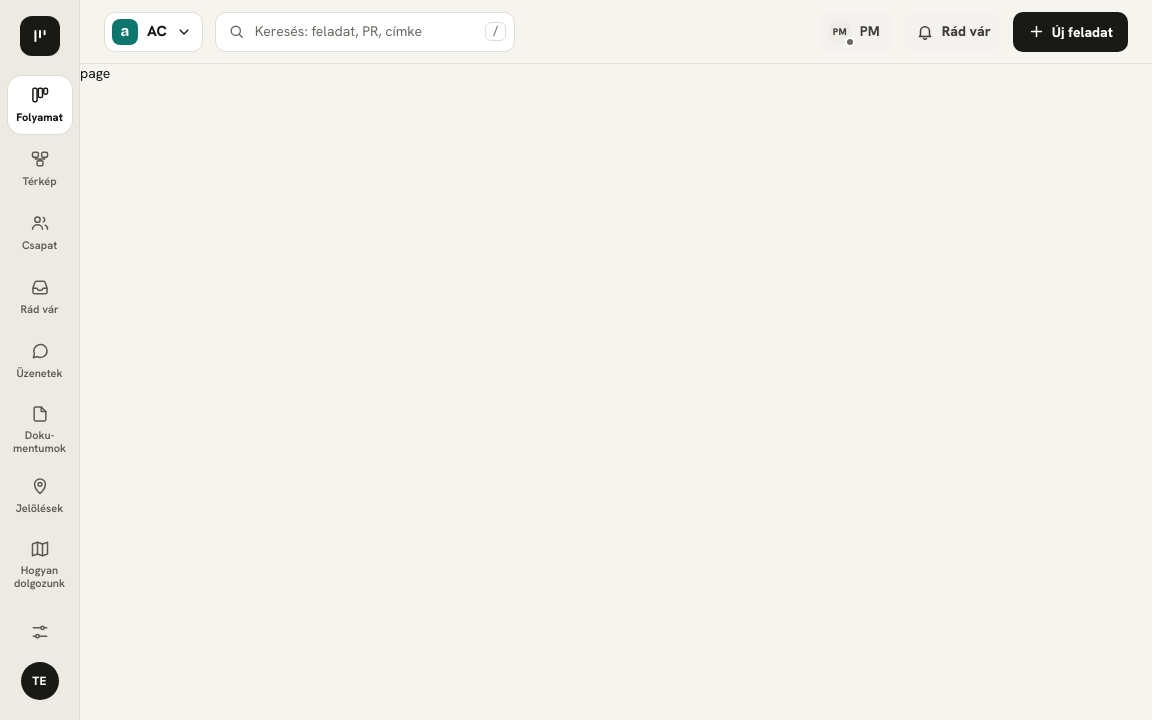
Scenario: who may pause › has the pause in the account menu on a desktop too, at every width
The width and height of the screenshot is (1152, 720).
Click the button with aria-label "Fiók": (40, 681) [18,660,60,702]
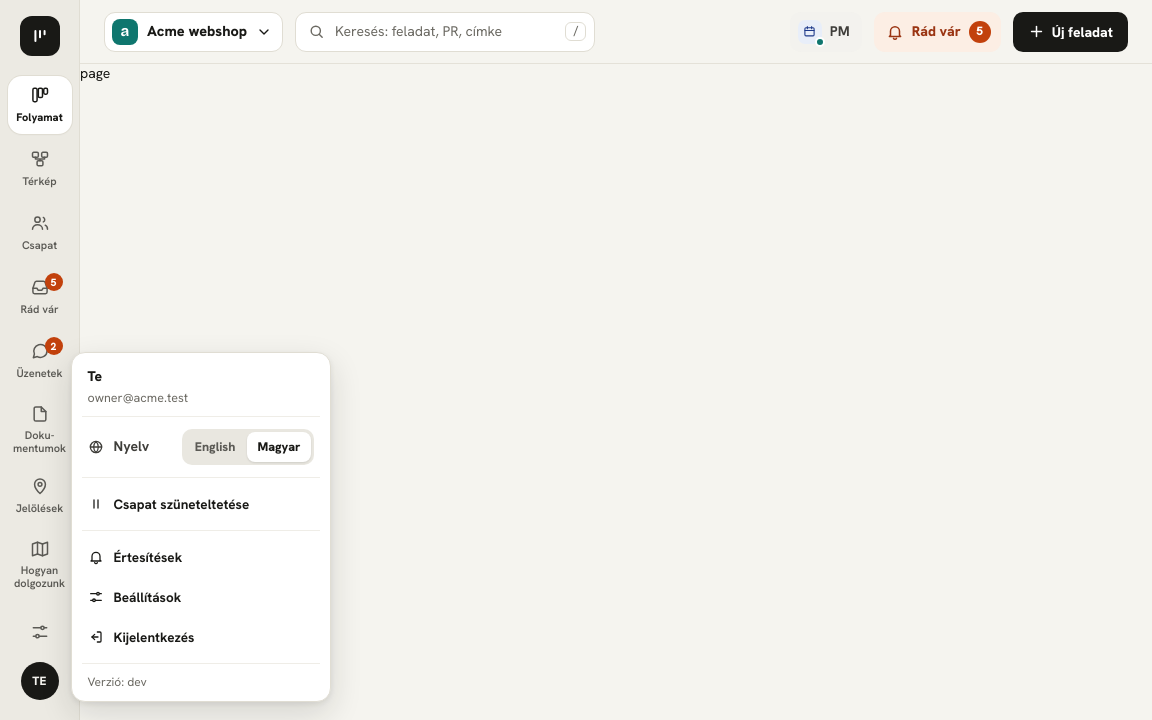
Click the button "Csapat szüneteltetése": (200, 504) [78,484,324,524]
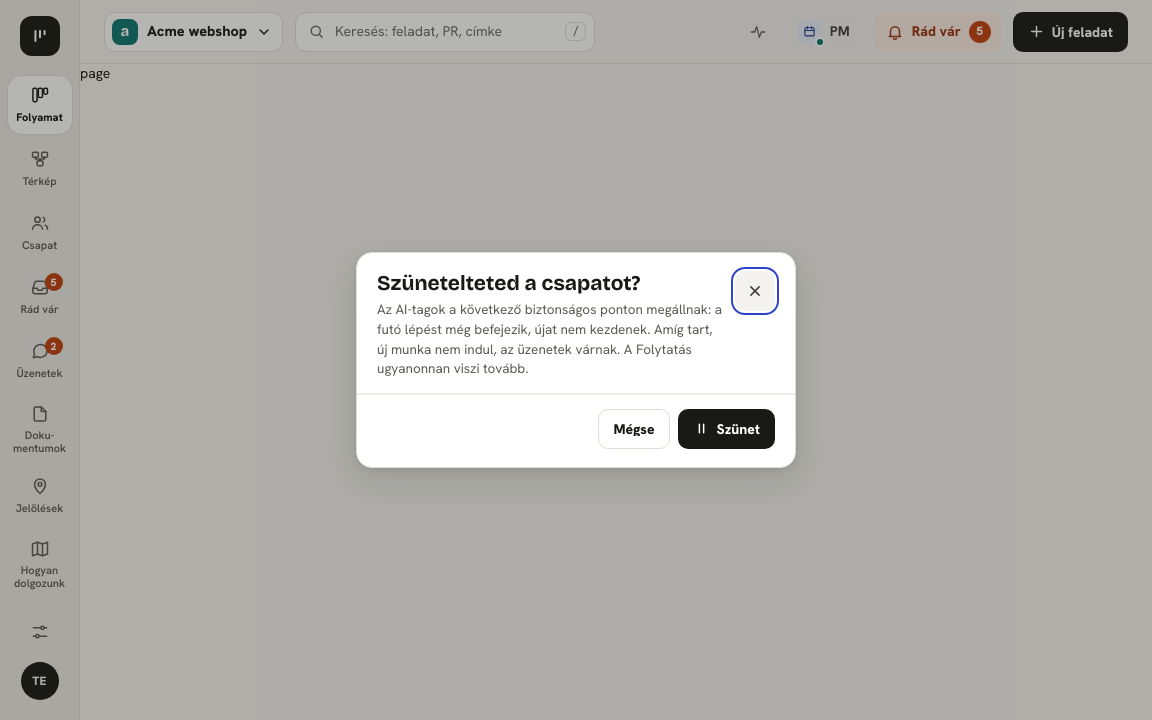
Check: the dialog "Szünetelteted a csapatot?" is shown, box [356,252,796,468]
